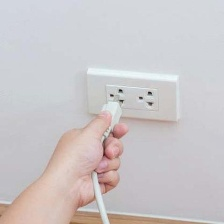three_eye_plug: (82, 64, 182, 124)
